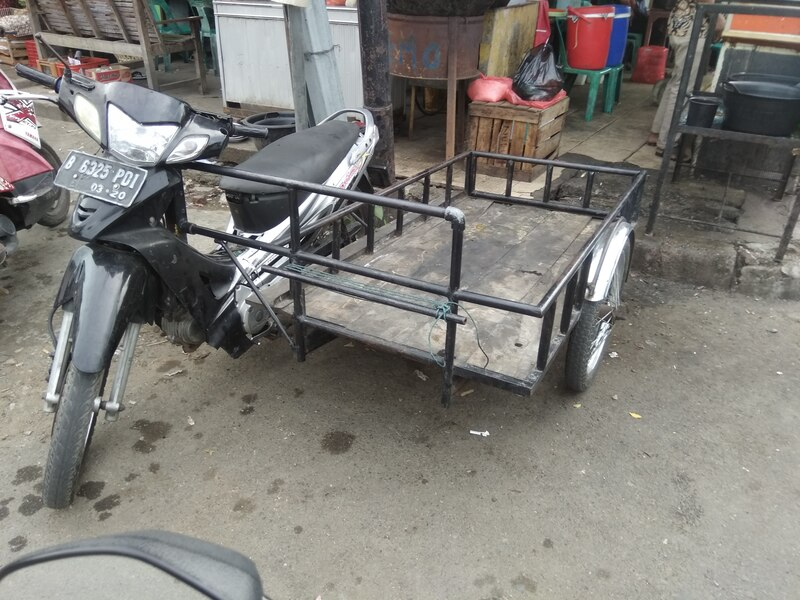becak barang: (10, 17, 652, 519)
